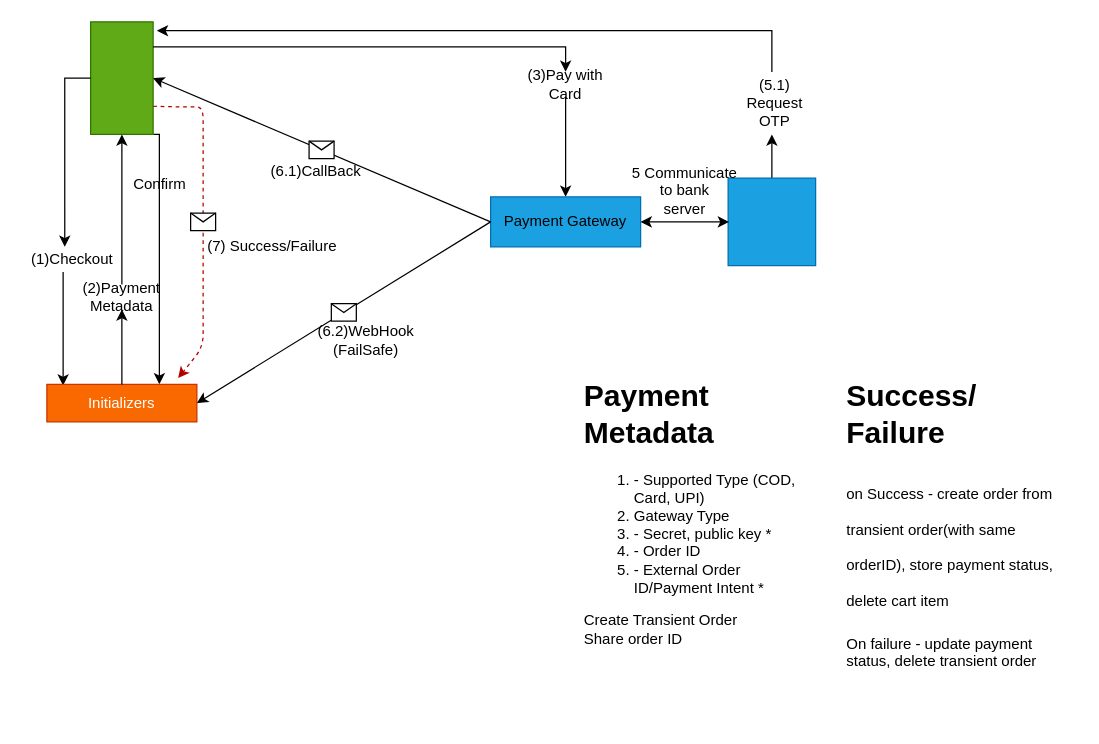
Some shapes in this 1099 by 744 pixel diagram are drawn without their labels. Here are the shapes that lost their labels. From the top down, the centre of each, then its label:
the point at 121,77: Client
the point at 771,221: Bank Server
